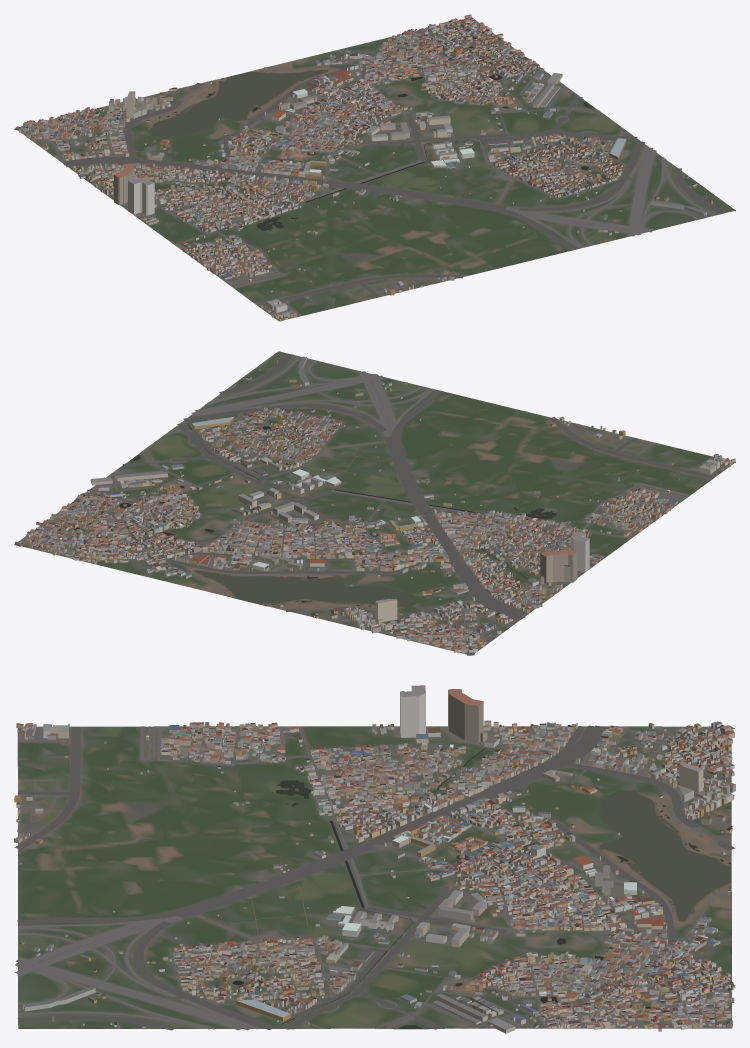
3 renders of one model, top to bottom at view 1: azimuth 30°, elevation 25°; view 2: azimuth 150°, elevation 25°; view 3: azimuth 270°, elevation 25°, orthographic. The views are drawn at different scales.
Visible parts, largest first — view 1: ground, buildings, roads, water; view 2: ground, buildings, roads, water; view 3: ground, buildings, roads, water.
Part boxes in pixels (left/top/right/bottom): ground: left=17, top=19, right=735, bottom=321; buildings: left=19, top=14, right=712, bottom=321; roads: left=14, top=17, right=725, bottom=319; water: left=149, top=46, right=634, bottom=230; ground: left=14, top=351, right=735, bottom=654; buildings: left=15, top=356, right=735, bottom=653; roads: left=14, top=353, right=725, bottom=655; water: left=74, top=424, right=556, bottom=608; ground: left=17, top=726, right=731, bottom=1029; buildings: left=14, top=685, right=735, bottom=1033; roads: left=14, top=725, right=735, bottom=1030; water: left=232, top=747, right=731, bottom=1028.
Bounding box in the file's own units: 1432 × 95.25 × 1418.
